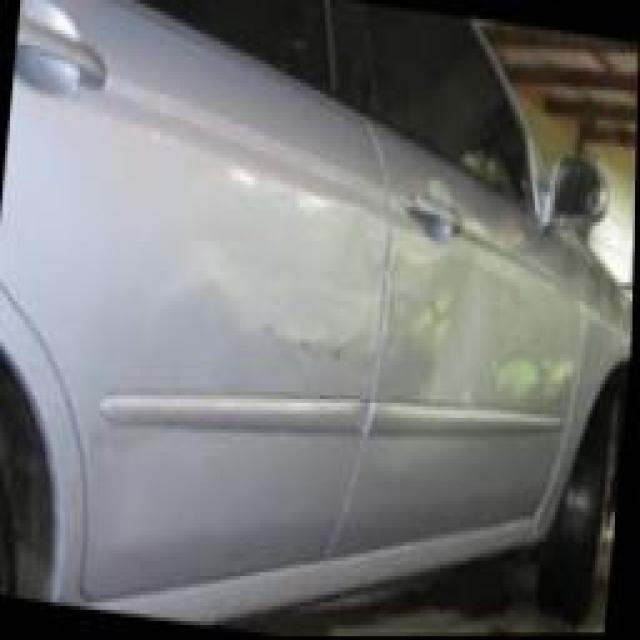Door: (185, 181, 476, 429)
